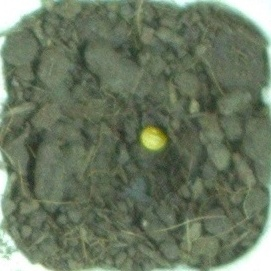chilli seed: (137, 124, 170, 150)
